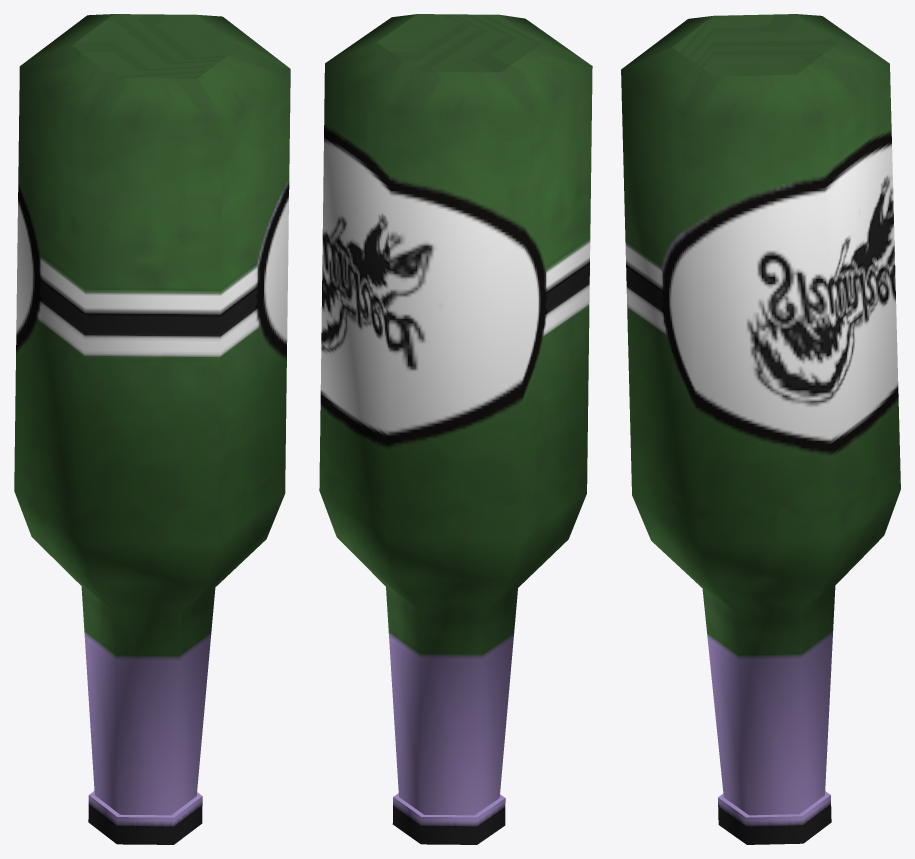
File: BeerBottleHand.FBX
3 renders of one model, left to right at view 1: azimuth 30°, elevation 25°; view 2: azimuth 150°, elevation 25°; view 3: azimuth 270°, elevation 25°, orthographic.
Visible parts, largest first — view 1: BeerBottle; view 2: BeerBottle; view 3: BeerBottle.
Boxes of the visible parts, box(x1,y1,x2,y2) form: BeerBottle: box(14, 14, 290, 844); BeerBottle: box(319, 14, 592, 844); BeerBottle: box(621, 14, 900, 844).
Size of the model in its own units: 0.0555 by 0.2052 by 0.0666.
